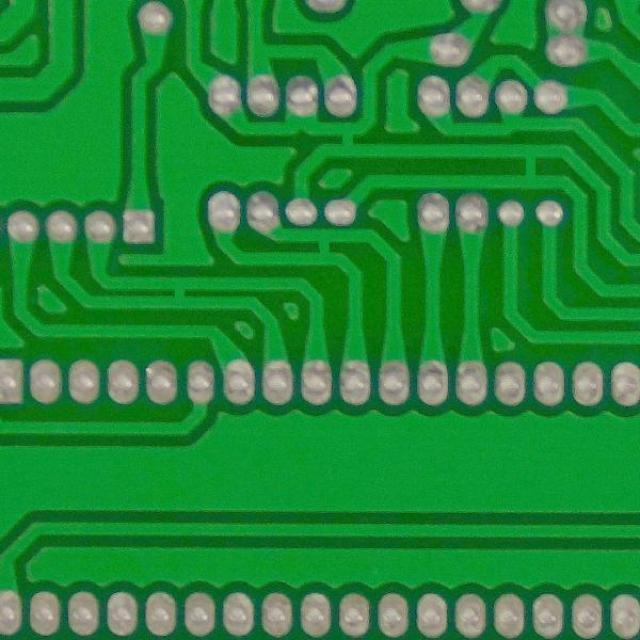Short_Circuit: (508, 137, 554, 192), (303, 224, 346, 271), (327, 115, 370, 162), (159, 272, 198, 317)
